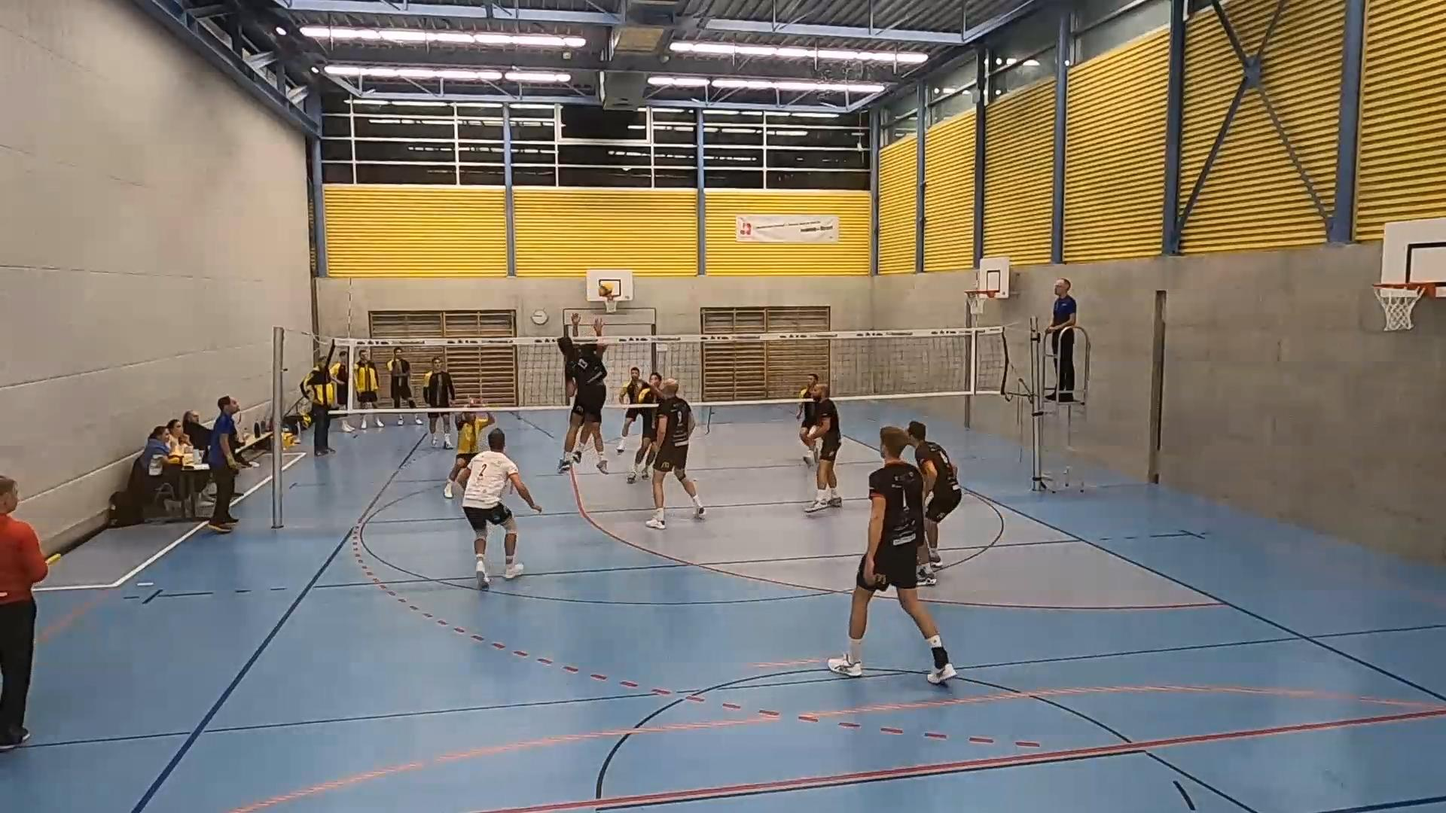attacco: (552, 312, 613, 475)
muro: (567, 310, 615, 479)
